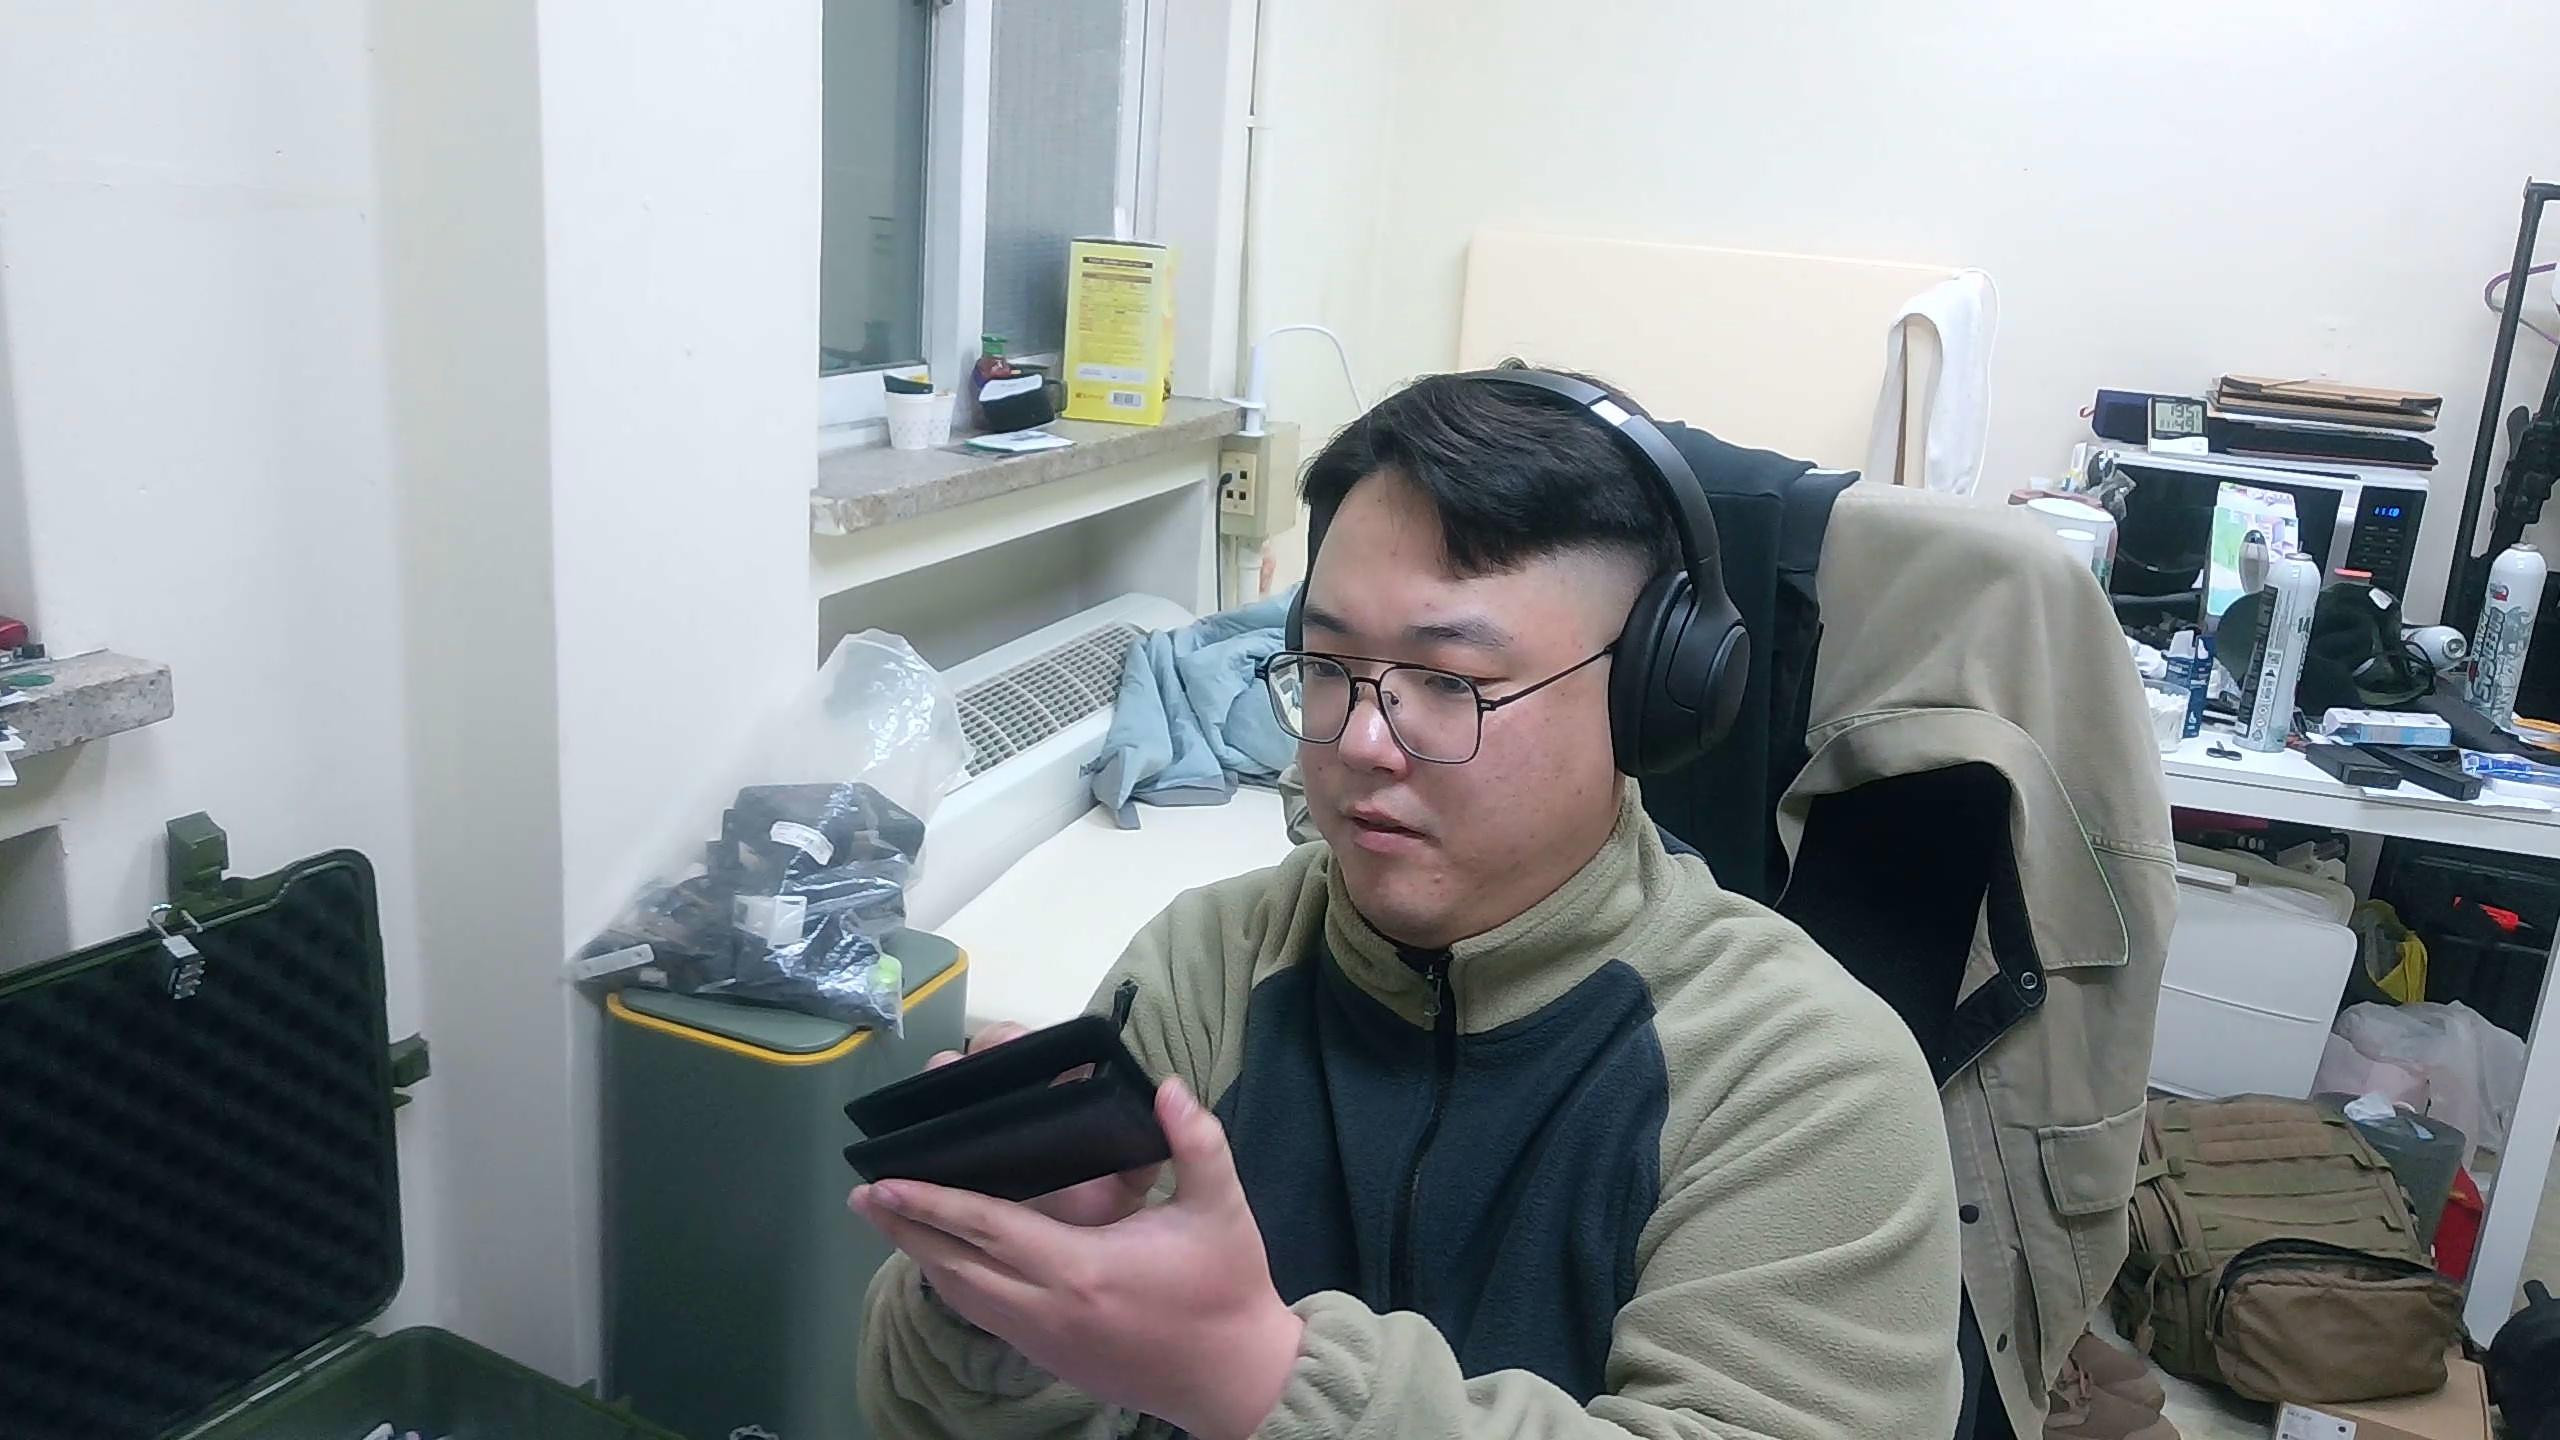Wallet: (840, 1011, 1175, 1208)
